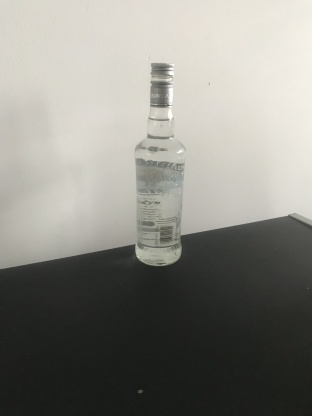nakretka: (148, 60, 175, 109)
